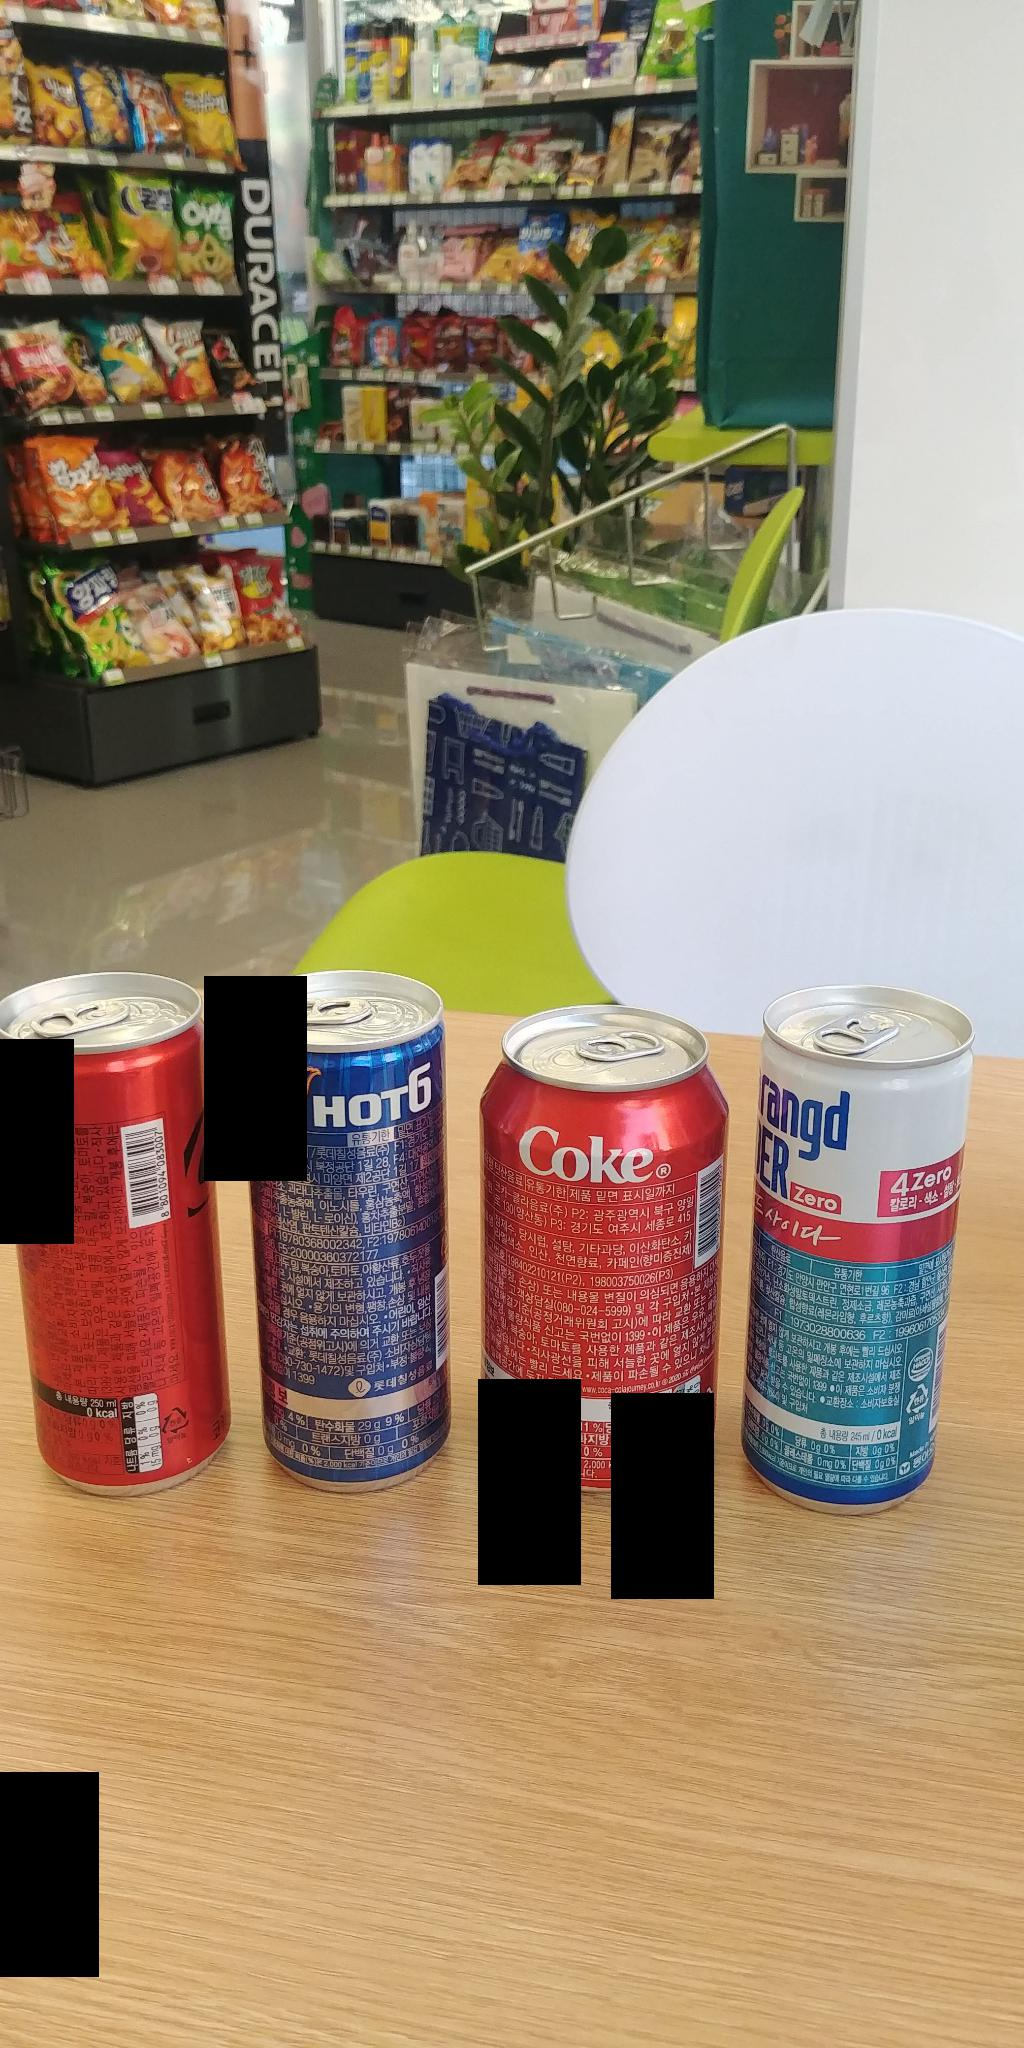cocacola: (474, 1010, 728, 1494)
hotsix_org: (232, 974, 452, 1493)
narangdcider: (725, 950, 978, 1539)
